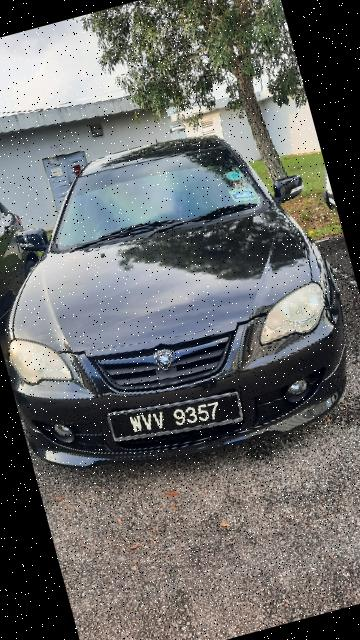License_Plate: (86, 364, 268, 470)
car: (1, 97, 360, 511)
